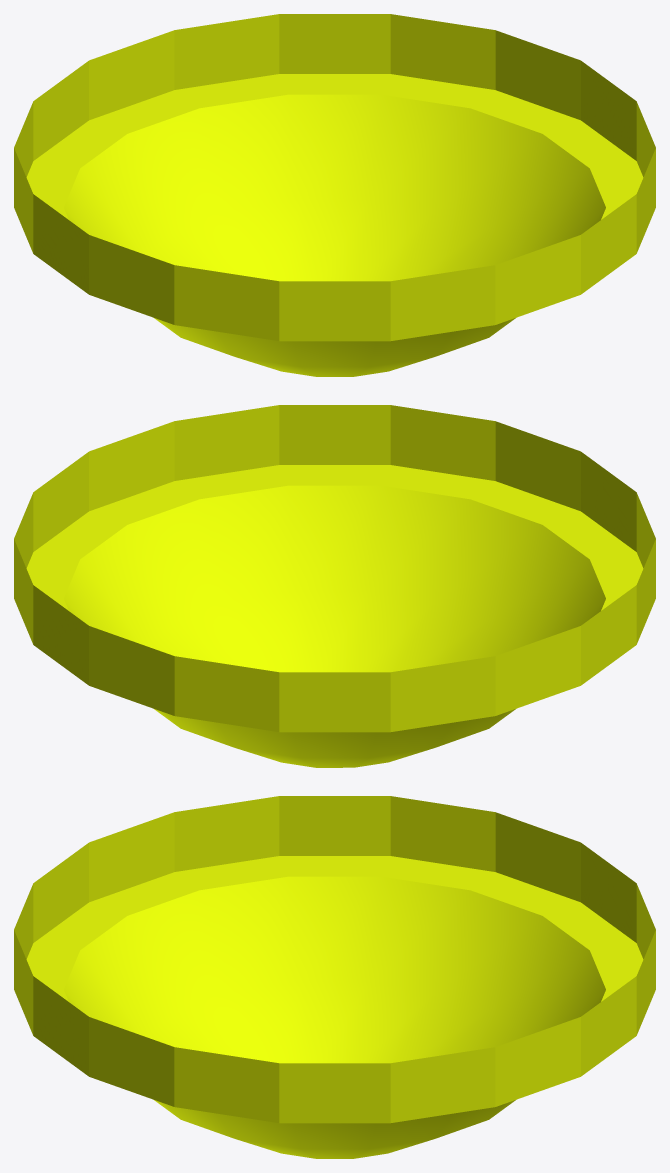
The model's file is Light_1.FBX.
3 views of the same model, one above another, from view 1: azimuth 30°, elevation 25°; view 2: azimuth 150°, elevation 25°; view 3: azimuth 270°, elevation 25° (orthographic).
Visible parts, largest first — view 1: bedroom light; view 2: bedroom light; view 3: bedroom light.
Part boxes in pixels (x1,y1,x2,y2): bedroom light: (14, 14, 655, 376); bedroom light: (14, 405, 655, 767); bedroom light: (14, 796, 655, 1158).
Bounding box in the file's own units: 0.4758 × 0.1636 × 0.4832.
